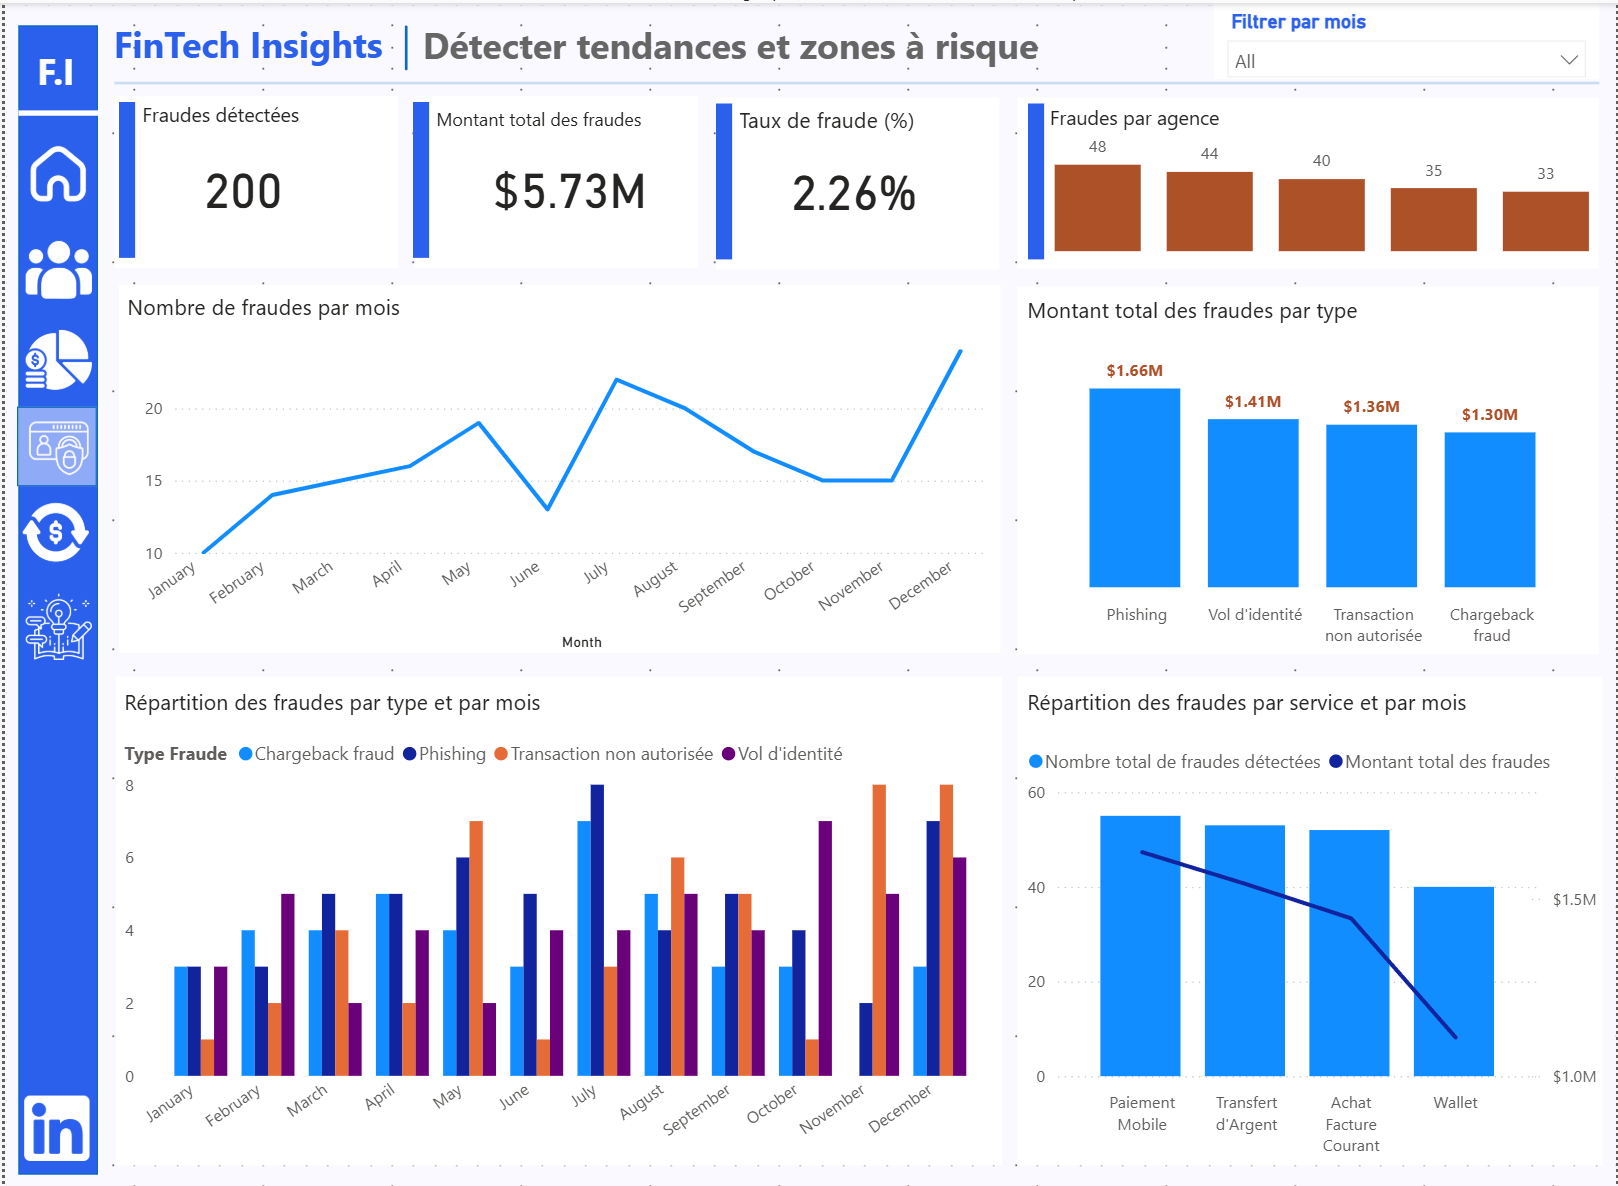

Layout of this report page (visuals, bound fields, positions):
{"tool":"powerbi","page":{"name":"Fraudes","canvas":[1200,880],"ordinal":3},"visuals":[{"type":"shape","box":[9.5,16.9,59.2,855.1],"z":0,"group":"g2"},{"type":"shape","box":[81.2,53.3,1105,12],"z":0,"group":"g1"},{"type":"shape","box":[753.6,501.5,435.5,364.2],"z":0},{"type":"group","id":"g1","title":"Header","box":[75.8,7,1110.4,58.3],"z":1000},{"type":"textbox","box":[75.8,7,230,50],"z":1000,"group":"g1"},{"type":"image","box":[8.9,807.2,59.2,60.3],"z":1000,"group":"g2"},{"type":"shape","box":[292.5,17,12.2,33.3],"z":2000,"group":"g1"},{"type":"shape","box":[9.9,66.9,59.7,29.9],"z":2000,"group":"g2"},{"type":"shape","box":[81,69.4,211,128],"z":2000},{"type":"textbox","box":[305.5,7.9,470.8,46.1],"z":3000,"group":"g1"},{"type":"shape","box":[85,74.2,12,116],"z":3000},{"type":"image","box":[9.9,168.7,59.7,59.7],"z":3000,"group":"g2"},{"type":"textbox","box":[96.7,66.9,172.6,39.8],"z":4000},{"type":"image","box":[9.9,235.4,59.7,59.7],"z":4000,"group":"g2"},{"type":"card","fields":{"Values":["KPI.Nombre total de fraudes détectées"]},"box":[128.5,110.1,97.1,51.7],"z":5000},{"type":"image","box":[9.9,301.6,59.7,59.7],"z":5000,"group":"g2"},{"type":"shape","box":[305.1,69.4,211,128],"z":6000},{"type":"image","box":[9.9,434.9,59.7,59.7],"z":6000,"group":"g2"},{"type":"shape","box":[303.7,74.2,12,116],"z":7000},{"type":"card","fields":{"Values":["KPI.Montant total des fraudes"]},"box":[347,110.2,145.5,51.5],"z":8000},{"type":"shape","box":[9,300,59.5,59.5],"z":8000,"group":"g2"},{"type":"shape","box":[529.2,70.2,211,128],"z":9000},{"type":"image","box":[8.9,96.8,60.8,59.7],"z":9000,"group":"g2"},{"type":"textbox","box":[18.5,27.4,50.1,48],"z":10000,"group":"g2"},{"type":"shape","box":[529.4,75,12,116],"z":10000},{"type":"image","box":[7.8,364.5,59.7,59.7],"z":10500,"group":"g2"},{"type":"card","fields":{"Values":["KPI.Taux de fraude (%)"]},"box":[572.9,111.1,117.5,51.5],"z":11000},{"type":"shape","box":[753.6,70.5,432.8,127.4],"z":12000},{"type":"shape","box":[760.7,75,12,116],"z":13000},{"type":"textbox","box":[315.4,71.4,172.6,34.3],"z":14000},{"type":"textbox","box":[541.3,70.5,172.6,39.8],"z":15000},{"type":"textbox","box":[772.6,68.7,172.6,33.4],"z":16000},{"type":"columnChart","fields":{"Category":["frauds.Agence"],"Y":["KPI.Nombre total de fraudes détectées"]},"box":[776.2,84,410.2,106.6],"z":17000},{"type":"shape","box":[84.9,209.6,656,273.8],"z":18000},{"type":"textbox","box":[85.8,209.7,225.9,34.3],"z":19000},{"type":"lineChart","fields":{"Y":["KPI.Nombre total de fraudes détectées"],"Category":["Calendrier.Date.Variation.Date Hierarchy.Month"]},"box":[84.9,244,651.5,241.3],"z":20000},{"type":"shape","box":[753.6,211.5,432.8,273.8],"z":21000},{"type":"textbox","box":[755.4,212.3,268.4,34.3],"z":22000},{"type":"columnChart","fields":{"Category":["type_fraude.Type Fraude"],"Y":["KPI.Montant total des fraudes"]},"box":[753.6,247.6,428.3,237.7],"z":23000},{"type":"lineStackedColumnComboChart","fields":{"Category":["frauds.Service"],"Y":["KPI.Nombre total de fraudes détectées"],"Y2":["KPI.Montant total des fraudes"]},"box":[755.4,544,433.7,321.7],"z":24000},{"type":"shape","box":[83.1,501.5,659.6,364.2],"z":25000},{"type":"clusteredColumnChart","fields":{"Category":["Calendrier.Date.Variation.Date Hierarchy.Month"],"Y":["KPI.Nombre total de fraudes détectées"],"Series":["type_fraude.Type Fraude"]},"box":[84,537.7,656.9,328],"z":26000},{"type":"textbox","box":[84,503.3,344.3,34.3],"z":27000},{"type":"textbox","box":[755.4,503.3,344.3,34.3],"z":28000},{"type":"group","id":"g2","title":"Navigation","box":[7.8,16.9,61.9,855.1],"z":29000},{"type":"slicer","fields":{"Values":["Calendrier.Date.Variation.Date Hierarchy.Month"]},"box":[899.7,0,286.9,56.9],"z":30000}]}

Visuals, with their boxes on the page's 1200x880 design canvas (x1, y1, x2, y2). These are canvas units, not pixel positions in the 1618x1186 screenshot, which may show the page scaled, cropped or inside an application window:
shape: <region>10, 17, 69, 872</region>
shape: <region>81, 53, 1186, 65</region>
shape: <region>754, 502, 1189, 866</region>
"Header" group: <region>76, 7, 1186, 65</region>
textbox: <region>76, 7, 306, 57</region>
image: <region>9, 807, 68, 868</region>
shape: <region>292, 17, 305, 50</region>
shape: <region>10, 67, 70, 97</region>
shape: <region>81, 69, 292, 197</region>
textbox: <region>306, 8, 776, 54</region>
shape: <region>85, 74, 97, 190</region>
image: <region>10, 169, 70, 228</region>
textbox: <region>97, 67, 269, 107</region>
image: <region>10, 235, 70, 295</region>
card - KPI.Nombre total de fraudes détectées: <region>128, 110, 226, 162</region>
image: <region>10, 302, 70, 361</region>
shape: <region>305, 69, 516, 197</region>
image: <region>10, 435, 70, 495</region>
shape: <region>304, 74, 316, 190</region>
card - KPI.Montant total des fraudes: <region>347, 110, 492, 162</region>
shape: <region>9, 300, 68, 360</region>
shape: <region>529, 70, 740, 198</region>
image: <region>9, 97, 70, 156</region>
textbox: <region>18, 27, 69, 75</region>
shape: <region>529, 75, 541, 191</region>
image: <region>8, 364, 68, 424</region>
card - KPI.Taux de fraude (%): <region>573, 111, 690, 163</region>
shape: <region>754, 70, 1186, 198</region>
shape: <region>761, 75, 773, 191</region>
textbox: <region>315, 71, 488, 106</region>
textbox: <region>541, 70, 714, 110</region>
textbox: <region>773, 69, 945, 102</region>
columnChart - frauds.Agence x KPI.Nombre total de fraudes détectées: <region>776, 84, 1186, 191</region>
shape: <region>85, 210, 741, 483</region>
textbox: <region>86, 210, 312, 244</region>
lineChart - KPI.Nombre total de fraudes détectées x Calendrier.Date.Variation.Date Hierarchy.Month: <region>85, 244, 736, 485</region>
shape: <region>754, 212, 1186, 485</region>
textbox: <region>755, 212, 1024, 247</region>
columnChart - type_fraude.Type Fraude x KPI.Montant total des fraudes: <region>754, 248, 1182, 485</region>
lineStackedColumnComboChart - frauds.Service x KPI.Nombre total de fraudes détectées: <region>755, 544, 1189, 866</region>
shape: <region>83, 502, 743, 866</region>
clusteredColumnChart - Calendrier.Date.Variation.Date Hierarchy.Month x KPI.Nombre total de fraudes détectées: <region>84, 538, 741, 866</region>
textbox: <region>84, 503, 428, 538</region>
textbox: <region>755, 503, 1100, 538</region>
"Navigation" group: <region>8, 17, 70, 872</region>
slicer - Calendrier.Date.Variation.Date Hierarchy.Month: <region>900, 0, 1187, 57</region>
